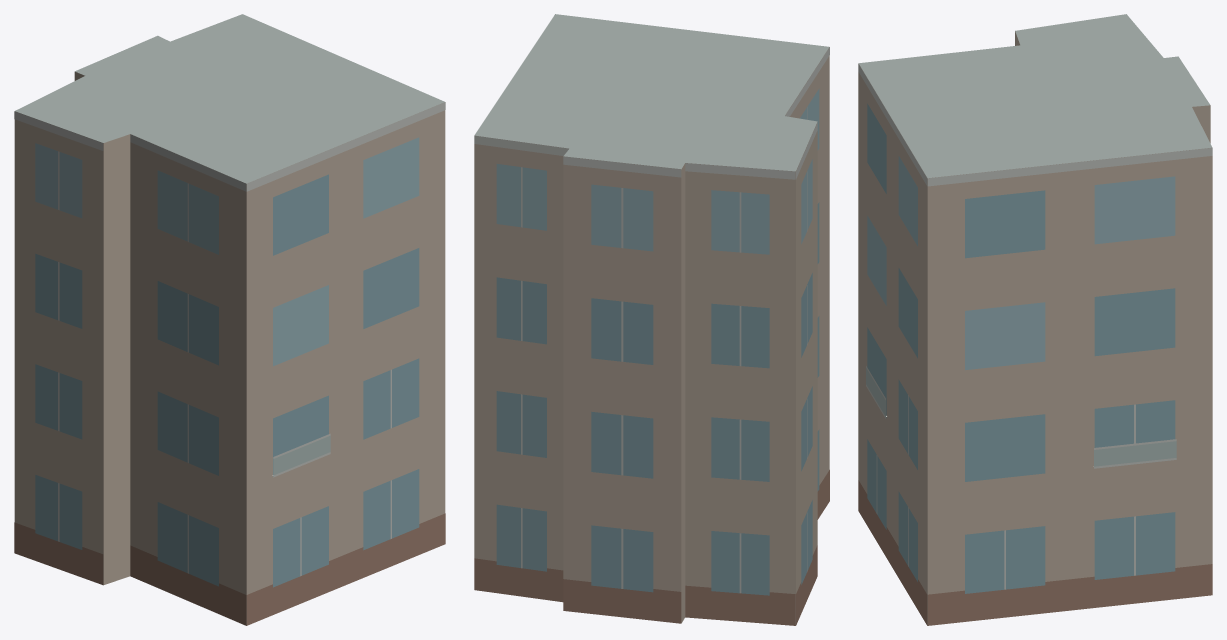
File: survey-upis-32875822.glb
3 renders of one model, left to right at view 1: azimuth 30°, elevation 25°; view 2: azimuth 150°, elevation 25°; view 3: azimuth 270°, elevation 25°, orthographic. The views are drawn at different scales.
Parts seen in each view (by area): view 1: survey-upis-32875822.tmp; view 2: survey-upis-32875822.tmp; view 3: survey-upis-32875822.tmp.
Part boxes in pixels (x1,y1,x2,y2): survey-upis-32875822.tmp: (14,14,445,625); survey-upis-32875822.tmp: (474,14,829,625); survey-upis-32875822.tmp: (858,14,1212,625).
Bounding box in the file's own units: 10.44 × 13.25 × 9.51.
